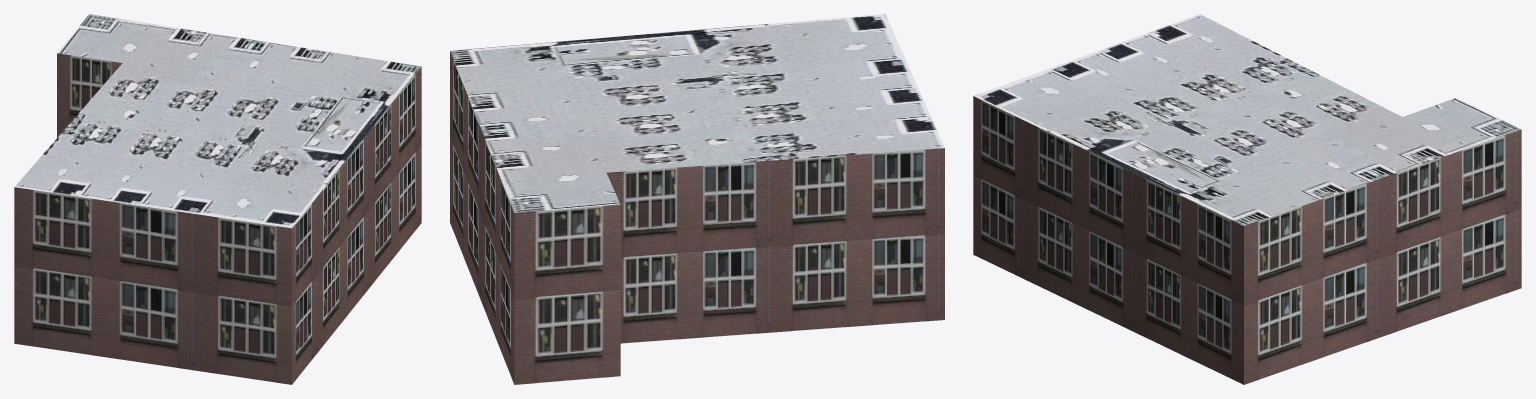
File: ResTex__9.fbx
3 renders of one model, left to right at view 1: azimuth 30°, elevation 25°; view 2: azimuth 150°, elevation 25°; view 3: azimuth 270°, elevation 25°, orthographic. The views are drawn at different scales.
Visible parts, largest first — view 1: CityEngineMaterial_12_m, CityEngineMaterial_8_m; view 2: CityEngineMaterial_12_m, CityEngineMaterial_8_m; view 3: CityEngineMaterial_12_m, CityEngineMaterial_8_m.
Part boxes in pixels (x1,y1,x2,y2): CityEngineMaterial_12_m: (14,53,421,384); CityEngineMaterial_8_m: (14,14,421,228); CityEngineMaterial_12_m: (450,51,944,384); CityEngineMaterial_8_m: (450,14,944,212); CityEngineMaterial_12_m: (973,96,1521,384); CityEngineMaterial_8_m: (974,14,1521,225).
Size of the model in its own units: 17.21 by 6 by 18.78.
2 materials, 2 textured.
